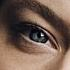eye: (30, 30, 46, 43)
